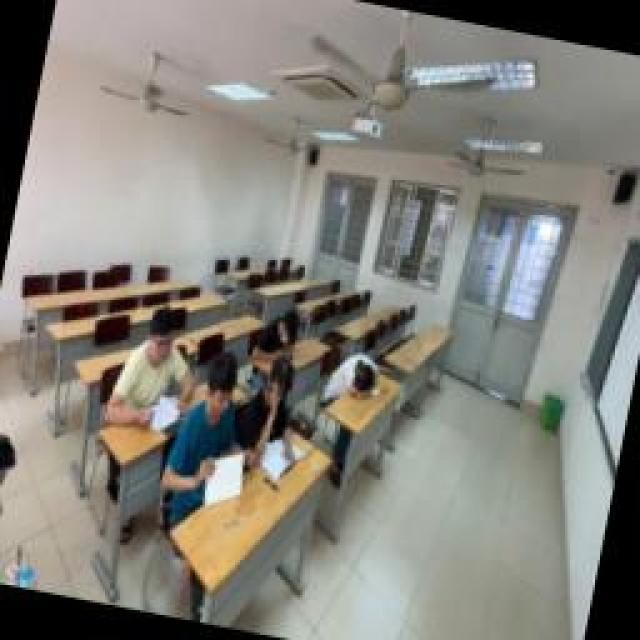sleep: (323, 350, 385, 405)
study: (160, 345, 275, 513), (102, 302, 208, 438), (230, 352, 312, 478), (250, 305, 305, 367)
